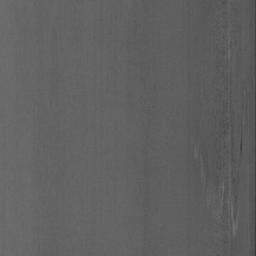Silk spot: (213, 91, 240, 256), (246, 0, 256, 256), (214, 36, 237, 56), (199, 148, 209, 187), (218, 70, 231, 90), (216, 156, 225, 170), (240, 120, 242, 157)
